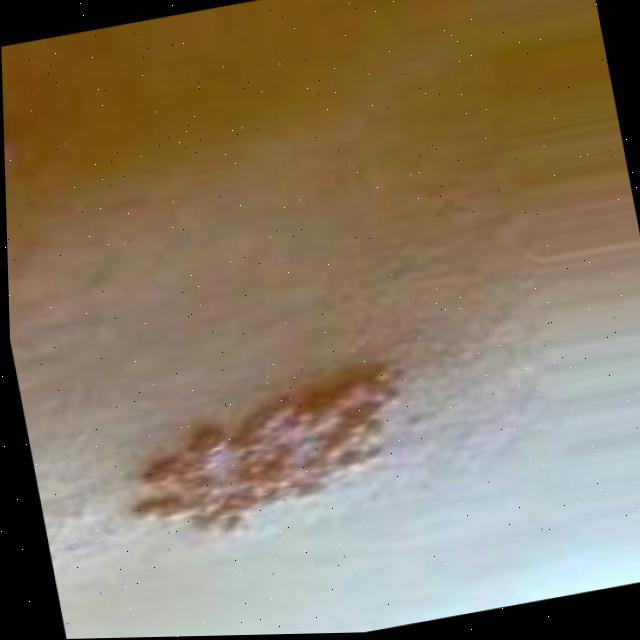Shingles: (111, 352, 431, 551), (4, 124, 32, 190)
